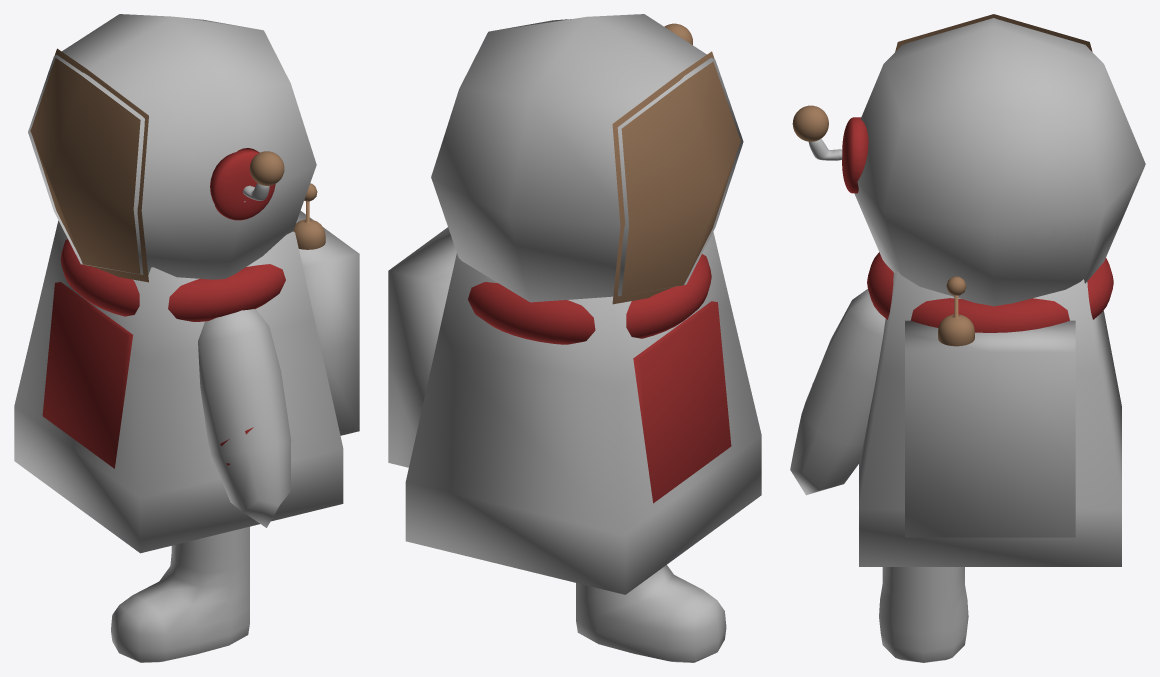
The model's file is astronaut.gltf.
3 views of the same model, side by side, from view 1: azimuth 30°, elevation 25°; view 2: azimuth 150°, elevation 25°; view 3: azimuth 270°, elevation 25° (orthographic). The views are drawn at different scales.
Visible parts, largest first — view 1: Cube.002, Cube, Cube.001, Cube.005, Cube.003, Cube.008, Cube.007, Torus.001, Cylinder.001, Cylinder, Sphere; view 2: Cube.002, Cube, Cube.001, Cube.008, Cube.003, Cube.007, Torus.001; view 3: Cube, Cube.007, Cube.002, Cube.005, Cube.003, Torus.001, Cylinder.001, Cylinder, Sphere, Cube.001.
Part boxes in pixels (x1,y1,x2,y2): Cube.002: [14, 220, 343, 553]; Cube: [28, 14, 316, 279]; Cube.001: [30, 48, 148, 282]; Cube.005: [198, 309, 291, 527]; Cube.003: [111, 526, 249, 662]; Cube.008: [42, 282, 132, 468]; Cube.007: [296, 210, 359, 435]; Torus.001: [60, 239, 285, 321]; Cylinder.001: [210, 148, 275, 220]; Cylinder: [293, 183, 325, 249]; Sphere: [249, 151, 284, 185]; Cube.002: [405, 232, 761, 594]; Cube: [431, 14, 743, 302]; Cube.001: [612, 51, 740, 304]; Cube.008: [633, 301, 731, 503]; Cube.003: [576, 565, 726, 662]; Cube.007: [388, 227, 456, 467]; Torus.001: [468, 254, 711, 344]; Cube: [854, 18, 1145, 306]; Cube.007: [905, 320, 1075, 537]; Cube.002: [859, 271, 1121, 566]; Cube.005: [790, 289, 885, 495]; Cube.003: [879, 567, 968, 662]; Torus.001: [867, 252, 1113, 332]; Cylinder.001: [842, 117, 868, 193]; Cylinder: [938, 276, 974, 346]; Sphere: [792, 105, 828, 141]; Cube.001: [895, 14, 1092, 51].
Bounding box in the file's own units: 1.05 × 2.23 × 1.15.
